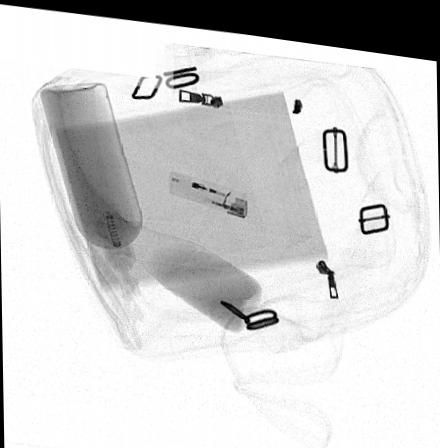Lighter: (169, 166, 247, 211)
